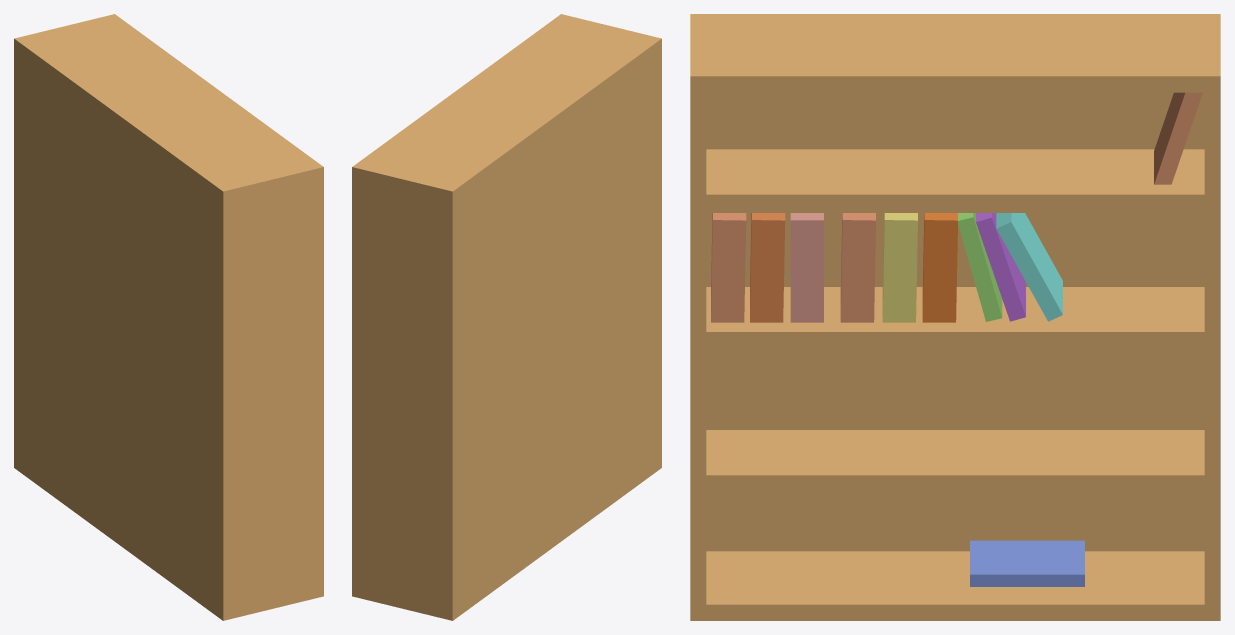
File: bookShelf222.fbx
3 views of the same model, side by side, from view 1: azimuth 30°, elevation 25°; view 2: azimuth 150°, elevation 25°; view 3: azimuth 270°, elevation 25° (orthographic). The views are drawn at different scales.
Visible parts, largest first — view 1: Cube; view 2: Cube; view 3: Cube, Cube.005, Cube.009, Cube.010, Cube.011, Cube.006, Cube.007, Cube.008, Cube.003, Cube.004, Cube.002, Cube.001.
Boxes of the visible parts, x1,y1,x2,y2 form: Cube: (14,14,323,620); Cube: (352,14,661,620); Cube: (690,14,1220,620); Cube.005: (970,540,1084,586); Cube.009: (840,213,875,322); Cube.010: (882,213,917,322); Cube.011: (922,213,957,322); Cube.006: (711,213,746,322); Cube.007: (750,213,785,322); Cube.008: (790,213,823,322); Cube.003: (996,213,1062,321); Cube.004: (1154,92,1202,184); Cube.002: (976,213,1025,321); Cube.001: (958,213,1002,321).
Bounding box in the file's own units: 426 × 1735 × 1531.
